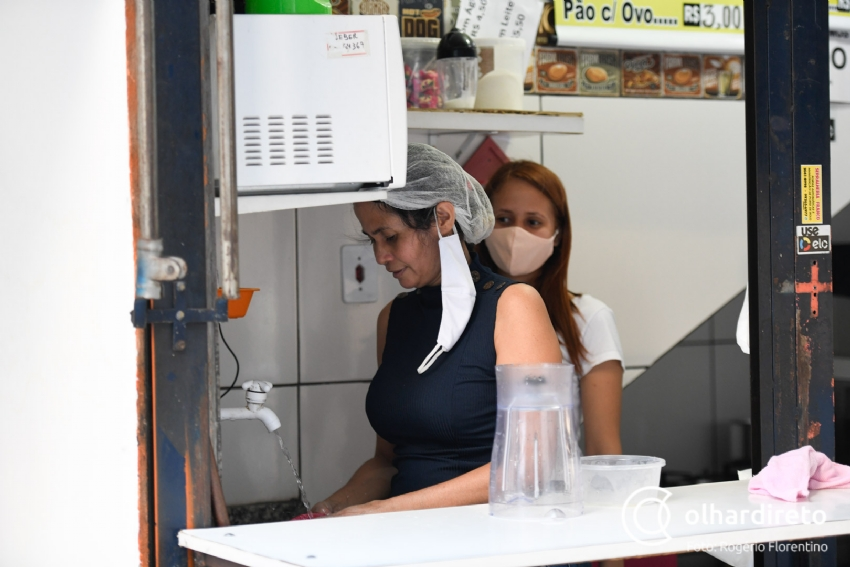mask_weared_incorrect: (350, 202, 479, 294)
